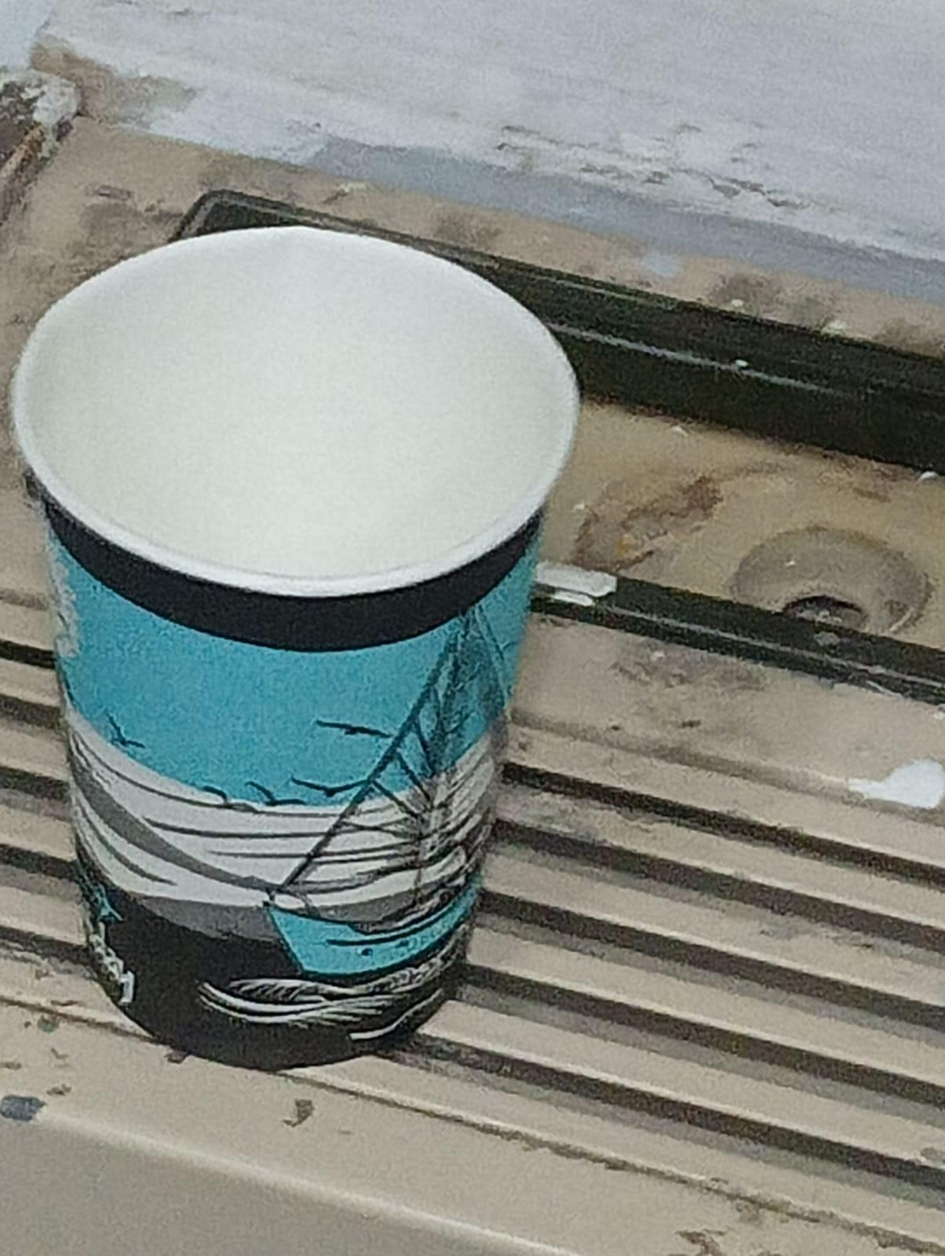cup: (13, 228, 577, 1066)
